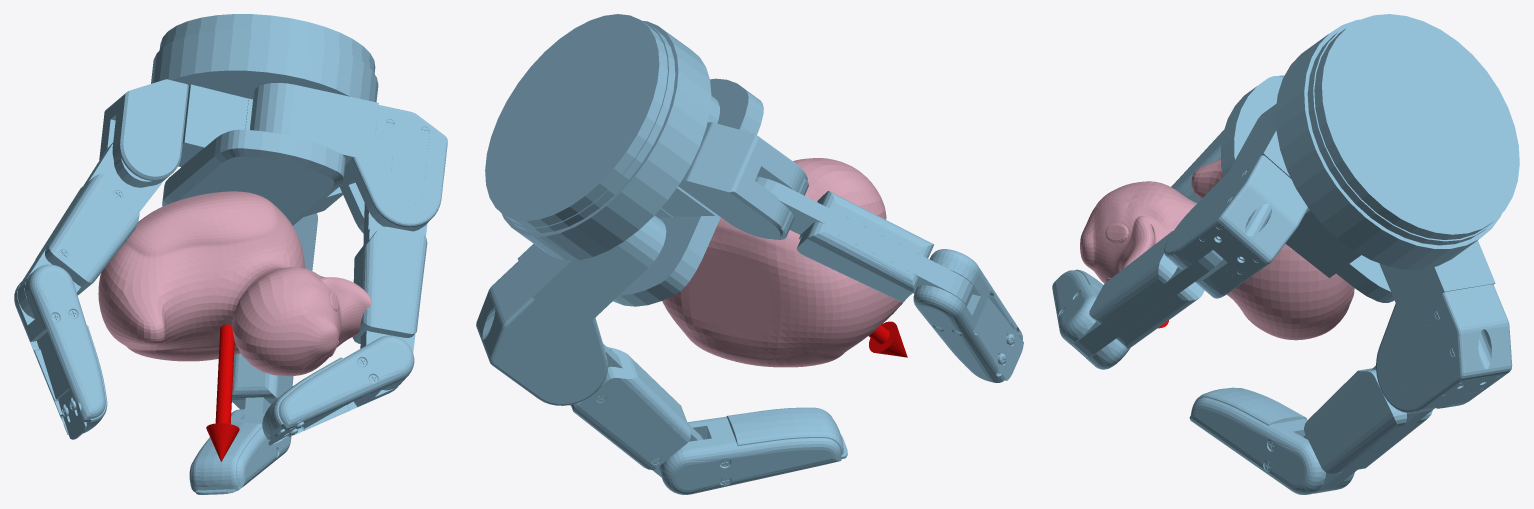
3 renders of one model, left to right at view 1: azimuth 30°, elevation 25°; view 2: azimuth 150°, elevation 25°; view 3: azimuth 270°, elevation 25°, orthographic. The views are drawn at different scales.
Visible parts, largest first — view 1: world, rubber_duck.stl; view 2: world, rubber_duck.stl; view 3: world, rubber_duck.stl.
Part boxes in pixels (x1,y1,x2,y2): world: [14, 14, 447, 494]; rubber_duck.stl: [98, 191, 371, 376]; world: [476, 14, 1023, 494]; rubber_duck.stl: [662, 158, 905, 367]; world: [1052, 14, 1519, 494]; rubber_duck.stl: [1080, 159, 1354, 340].
Bounding box in the file's own units: 0.1802 × 0.185 × 0.1633.
